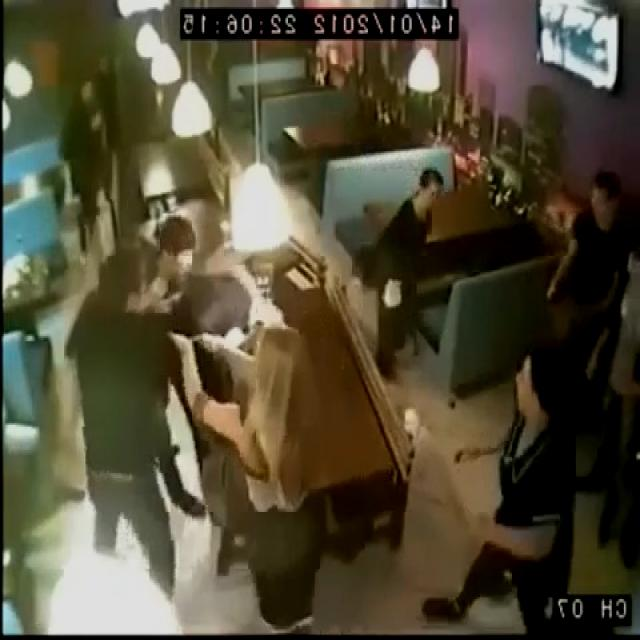fight: (99, 180, 268, 443)
